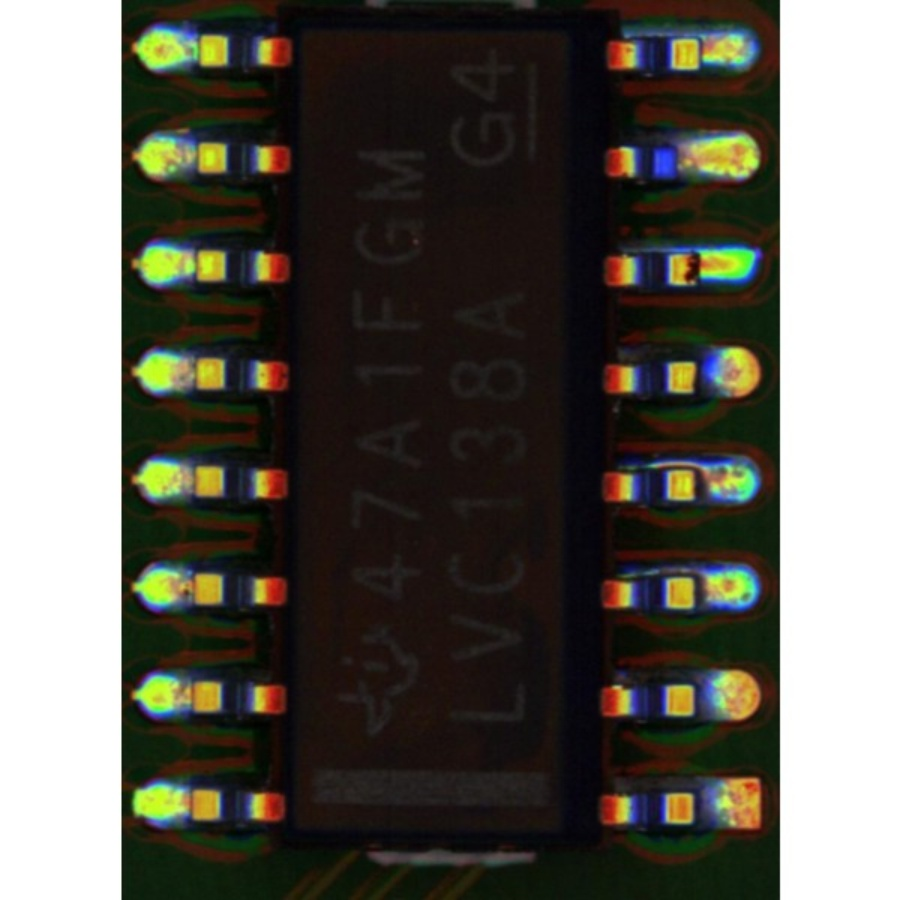Bad_podu: (676, 38, 720, 58)
Bad_qiaojiao: (619, 566, 702, 578), (622, 456, 700, 468), (625, 241, 696, 254)
